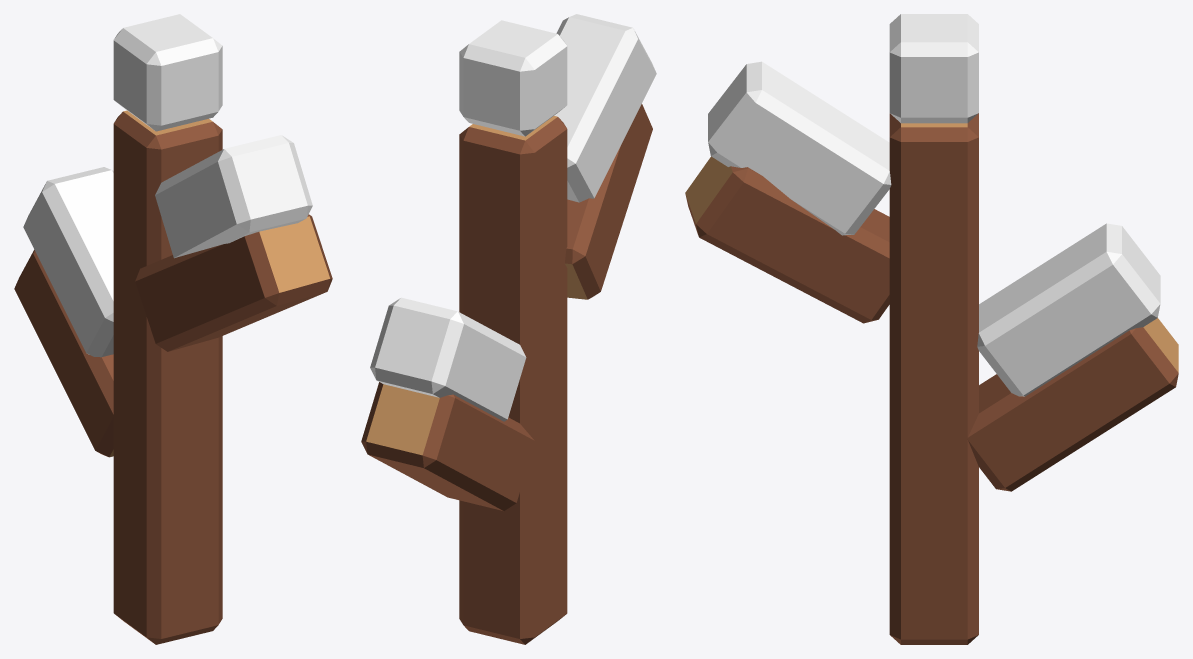
The model's file is Bush 2.fbx.
The picture shows the model from 3 angles, left to right: view 1: azimuth 30°, elevation 25°; view 2: azimuth 150°, elevation 25°; view 3: azimuth 270°, elevation 25°; orthographic projection. The views are drawn at different scales.
Parts seen in each view (by area): view 1: Trunk_1, Trunk_2, Snow_2, Snow_3, Snow_5, Trunk_3; view 2: Trunk_1, Trunk_3, Snow_3, Snow_2, Snow_5, Trunk_2; view 3: Trunk_1, Snow_3, Snow_2, Trunk_3, Trunk_2, Snow_5.
Boxes of the visible parts, box(x1,y1,x2,y2) form: Trunk_1: box(113, 110, 222, 644); Trunk_2: box(135, 214, 332, 351); Snow_2: box(155, 135, 312, 258); Snow_3: box(23, 167, 113, 357); Snow_5: box(113, 14, 222, 131); Trunk_3: box(14, 249, 113, 457); Trunk_1: box(459, 116, 567, 644); Trunk_3: box(361, 382, 535, 510); Snow_3: box(370, 297, 526, 421); Snow_2: box(554, 14, 656, 202); Snow_5: box(459, 20, 567, 136); Trunk_2: box(565, 104, 652, 299); Trunk_1: box(889, 113, 978, 644); Snow_3: box(977, 223, 1160, 396); Snow_2: box(708, 61, 891, 235); Trunk_3: box(967, 318, 1178, 491); Trunk_2: box(685, 156, 889, 323); Snow_5: box(889, 14, 978, 123).
Size of the model in its own units: 0.1389 by 0.745 by 0.553.
